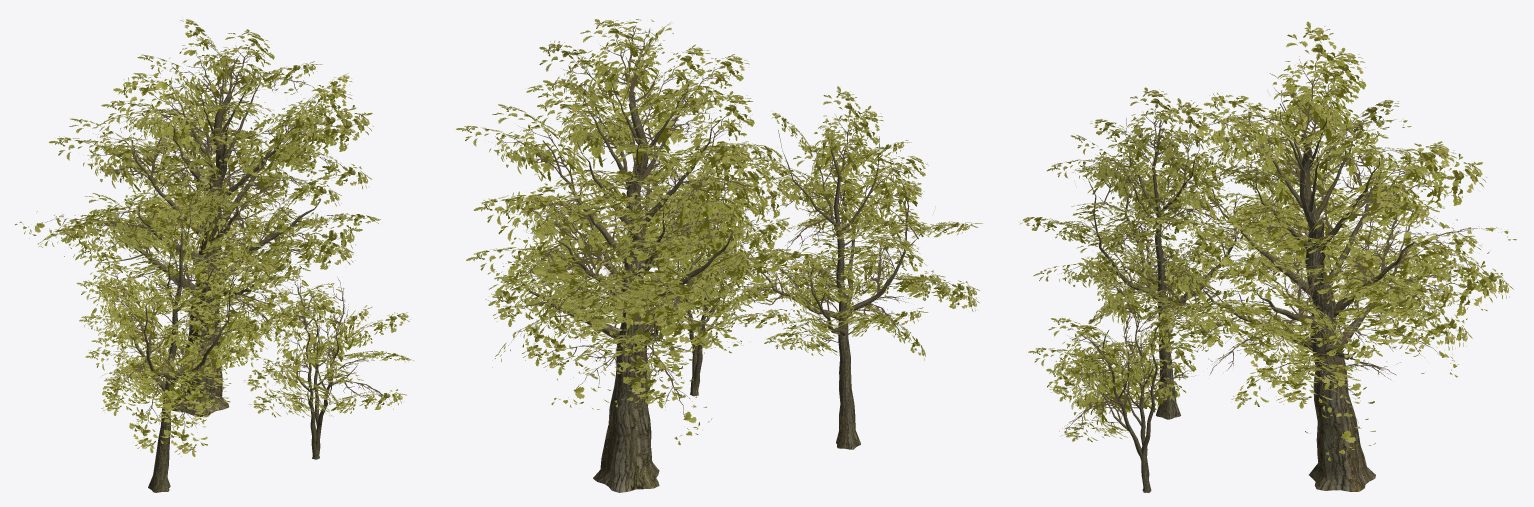
Rendered from tree2.glb.
3 views of the same model, side by side, from view 1: azimuth 30°, elevation 25°; view 2: azimuth 150°, elevation 25°; view 3: azimuth 270°, elevation 25° (orthographic). The views are drawn at different scales.
Parts seen in each view (by area): view 1: leafplanes_2_196_0_leaf1_0, Treesmall_bark1_0; view 2: leafplanes_2_196_0_leaf1_0, Treesmall_bark1_0; view 3: leafplanes_2_196_0_leaf1_0, Treesmall_bark1_0.
Part boxes in pixels (box(x1,y1,x2,y2)): leafplanes_2_196_0_leaf1_0: box(15, 19, 413, 456); Treesmall_bark1_0: box(95, 53, 374, 492); leafplanes_2_196_0_leaf1_0: box(456, 19, 982, 444); Treesmall_bark1_0: box(485, 56, 935, 492); leafplanes_2_196_0_leaf1_0: box(1019, 21, 1516, 460); Treesmall_bark1_0: box(1083, 90, 1435, 492).
Bounding box in the file's own units: 1.97 × 2.04 × 2.08.
Materials: 2 (2 with a texture image).
